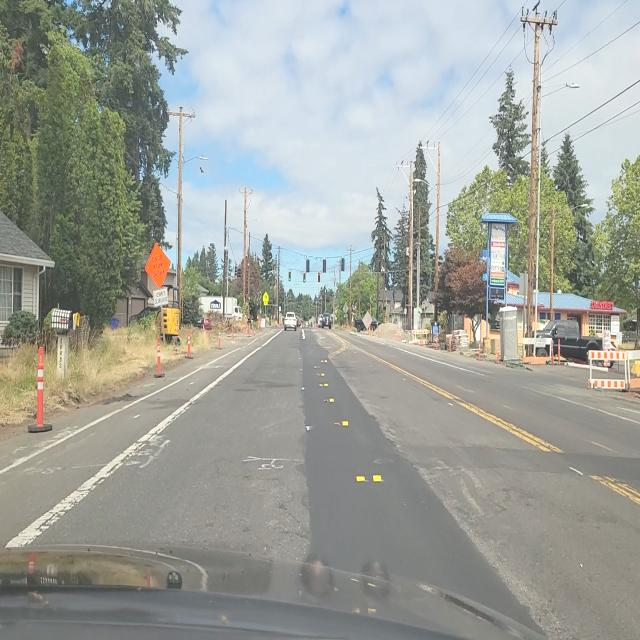car: (532, 320, 610, 365), (353, 314, 380, 333), (181, 313, 206, 331), (283, 312, 298, 332), (196, 316, 215, 330), (319, 312, 332, 329)
crosswalk-sign: (262, 293, 268, 329), (262, 292, 269, 306)
delineator: (36, 347, 46, 429), (154, 333, 166, 378), (550, 337, 556, 365), (186, 332, 192, 358), (555, 337, 560, 365), (217, 326, 222, 350), (231, 320, 235, 340), (478, 342, 482, 361), (247, 319, 251, 336), (448, 335, 452, 352), (252, 319, 256, 334), (257, 318, 261, 332)
